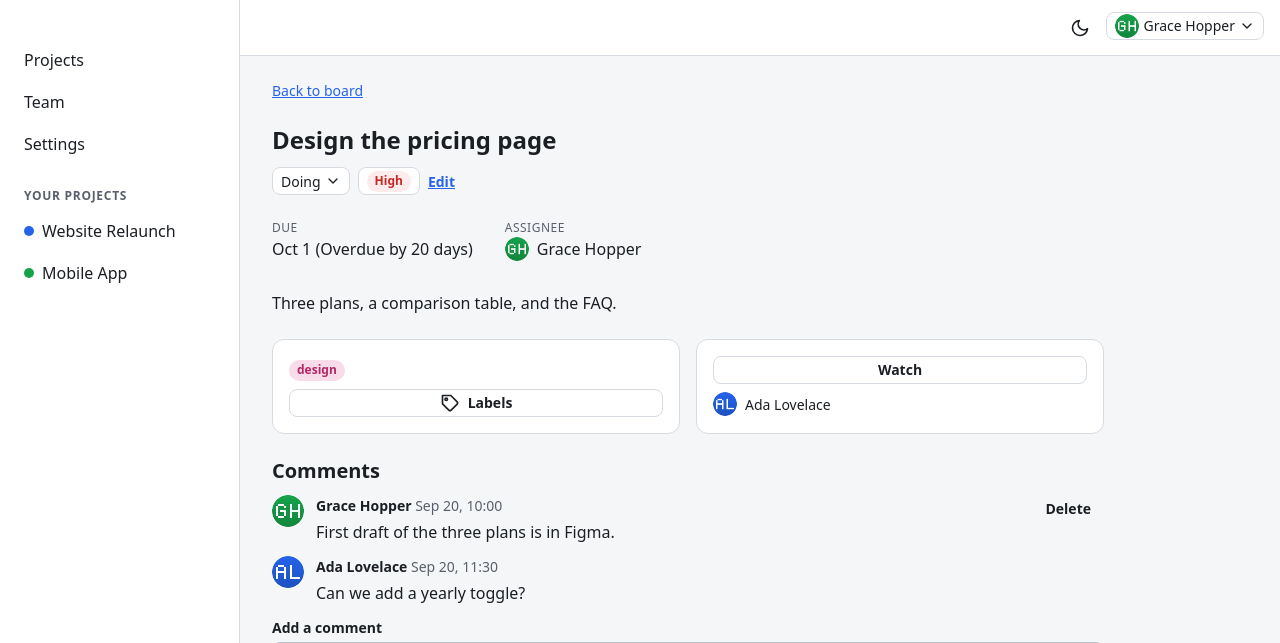
Test case: Watch adds you at once, and the server keeps it
This screenshot has width=1280, height=643.
Click the button "Watch" at (900, 370), box [713,356,1087,384]
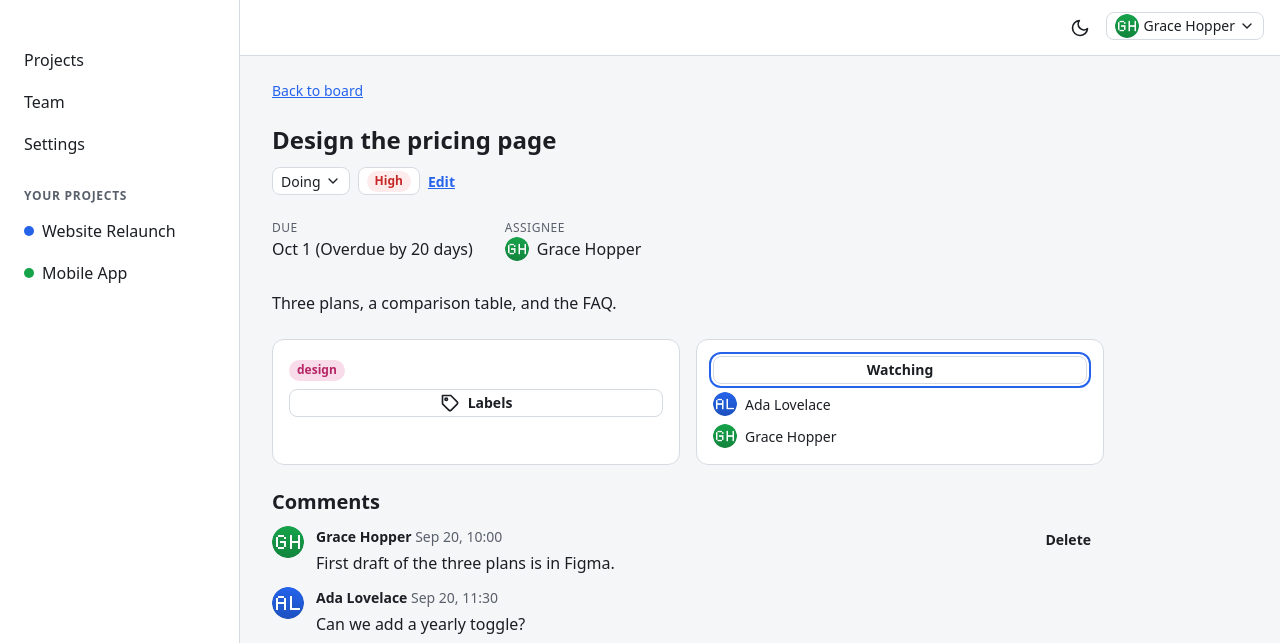
expect the button "Watching" is shown: met, box [713,356,1087,384]
